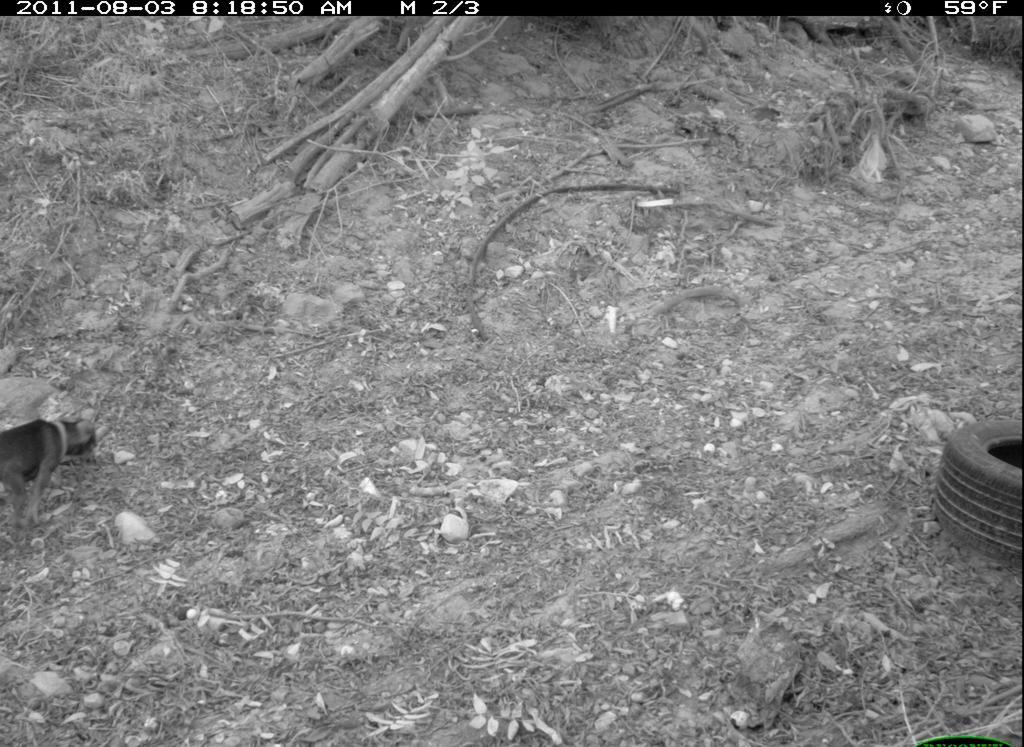dog: (3, 414, 120, 542)
